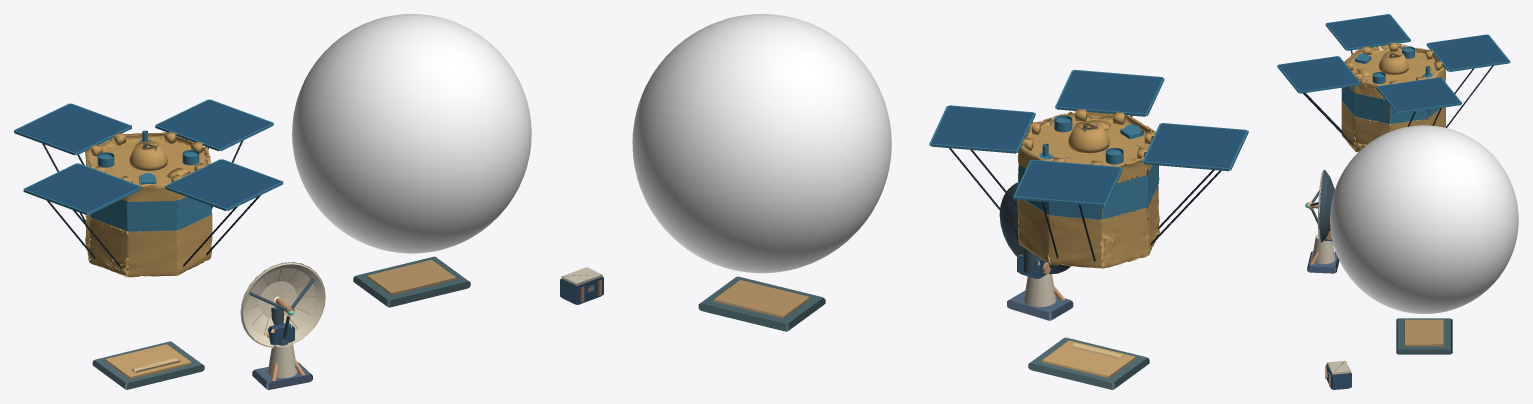
File: tierra-nocturna.obj
3 renders of one model, left to right at view 1: azimuth 30°, elevation 25°; view 2: azimuth 150°, elevation 25°; view 3: azimuth 270°, elevation 25°, orthographic. The views are drawn at different scales.
Parts seen in each view (by area): view 1: tierra-nocturna; view 2: tierra-nocturna; view 3: tierra-nocturna.
Part boxes in pixels (<box>): tierra-nocturna: <box>14,14,603,389</box>; tierra-nocturna: <box>632,14,1248,389</box>; tierra-nocturna: <box>1277,14,1518,389</box>.
Bounding box in the file's own units: 1.54 × 0.703 × 0.7497.
